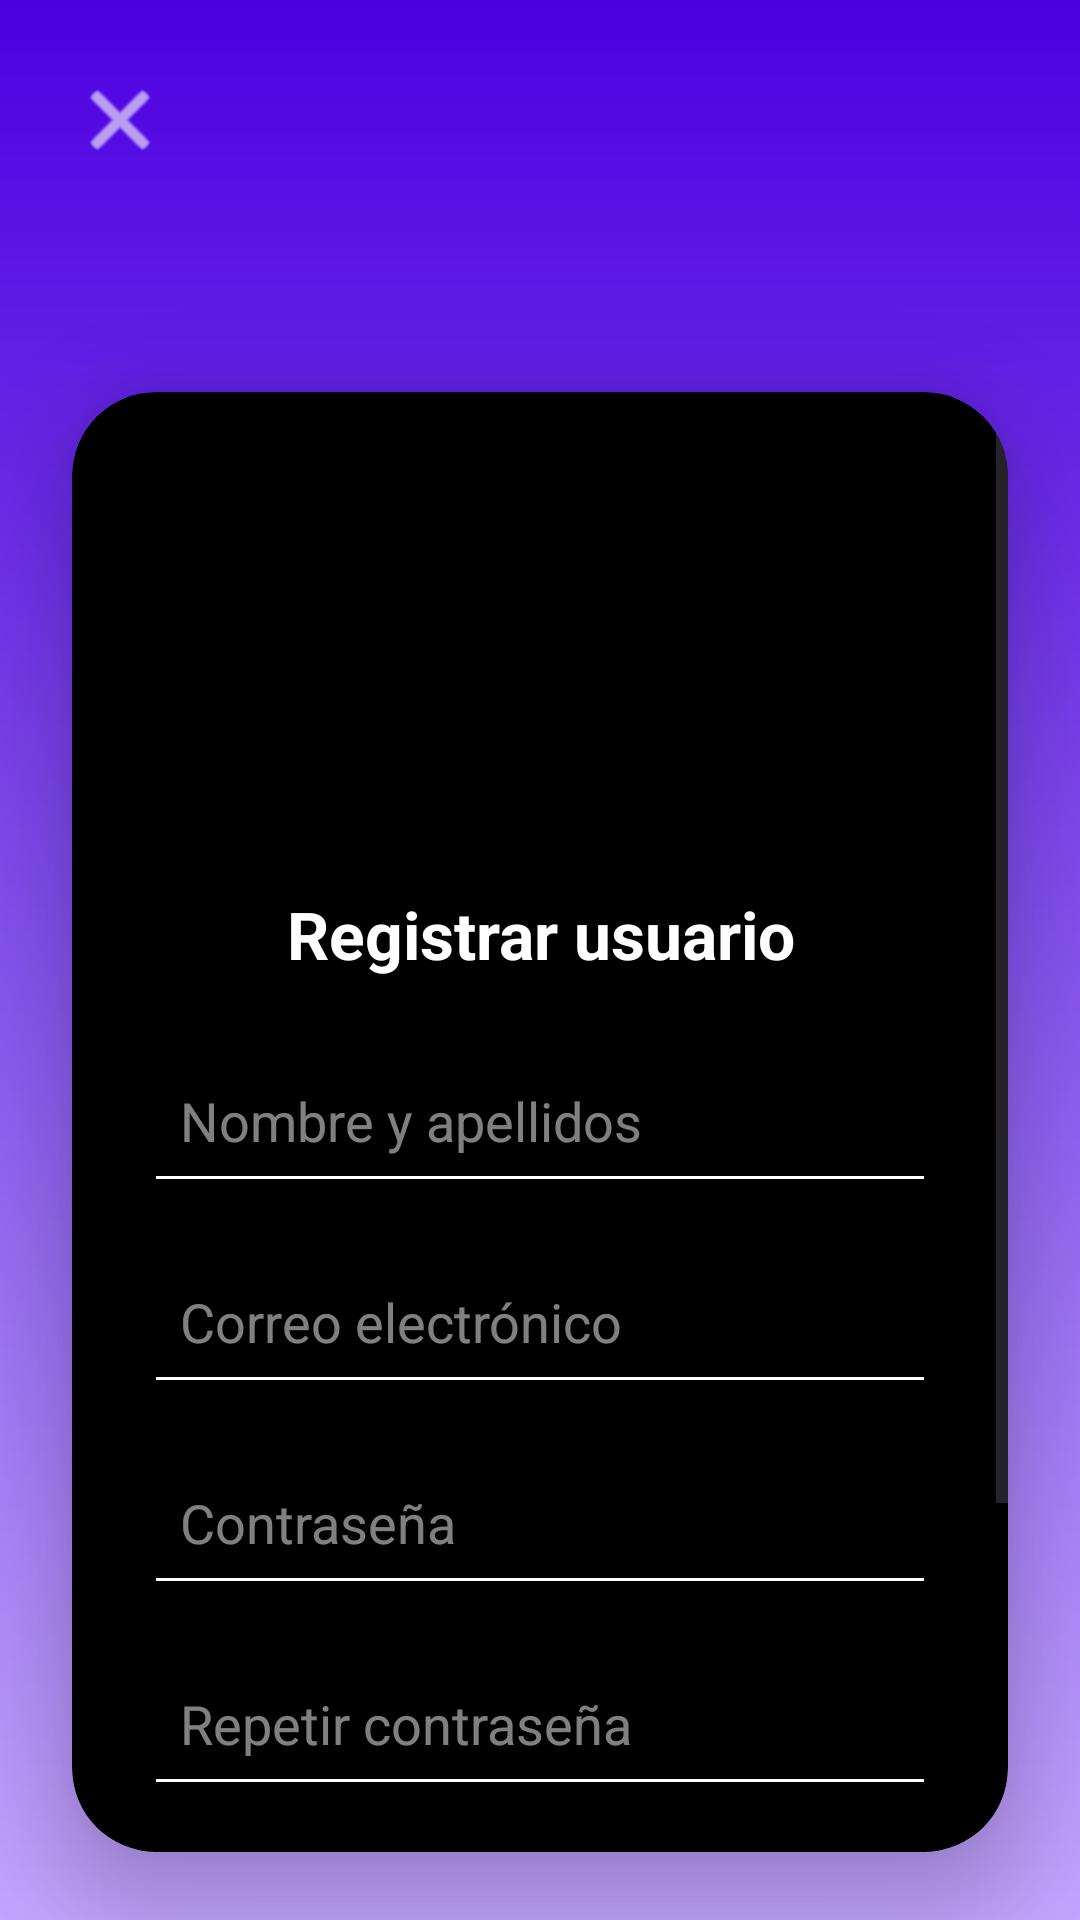

Screen size 1080*1920. Icon name, then its center in pixels as [x,y]:
close clear cancel: [120,120]
